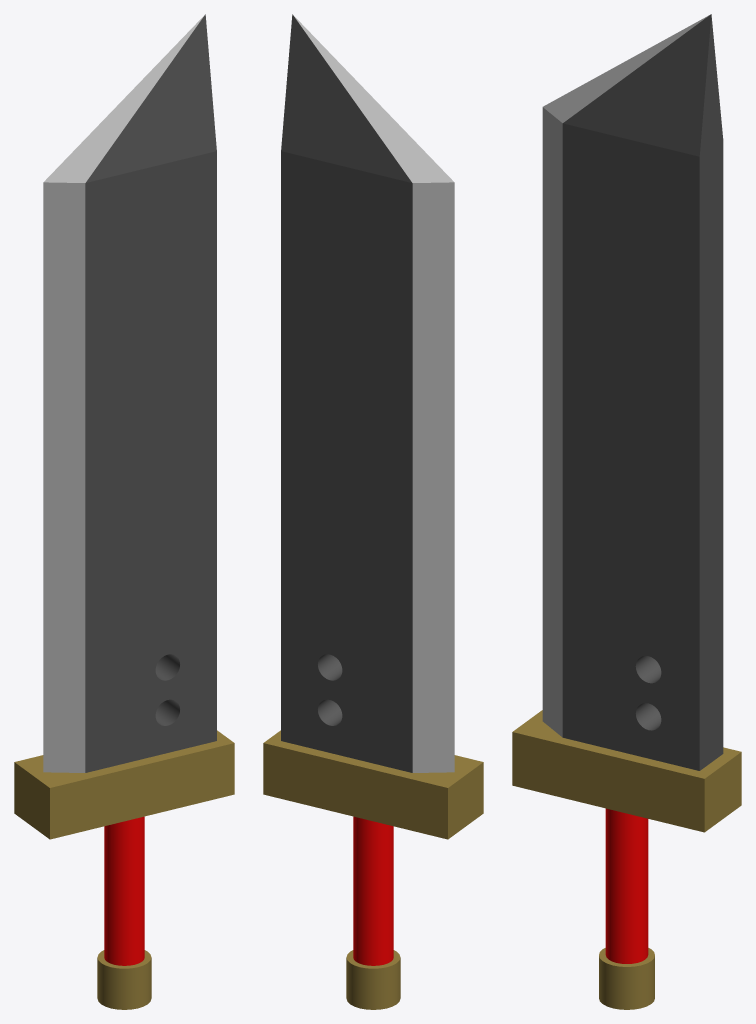
File: sword 1.fbx
3 views of the same model, side by side, from view 1: azimuth 30°, elevation 25°; view 2: azimuth 150°, elevation 25°; view 3: azimuth 330°, elevation 25° (orthographic). The views are drawn at different scales.
Parts seen in each view (by area): view 1: CloudSword1; view 2: CloudSword1; view 3: CloudSword1.
Part boxes in pixels (x1=…): CloudSword1: x1=14, y1=14, x2=234, y2=1009; CloudSword1: x1=263, y1=14, x2=483, y2=1009; CloudSword1: x1=512, y1=14, x2=741, y2=1009.
Bounding box in the file's own units: 1.5 × 7.49 × 0.5.
